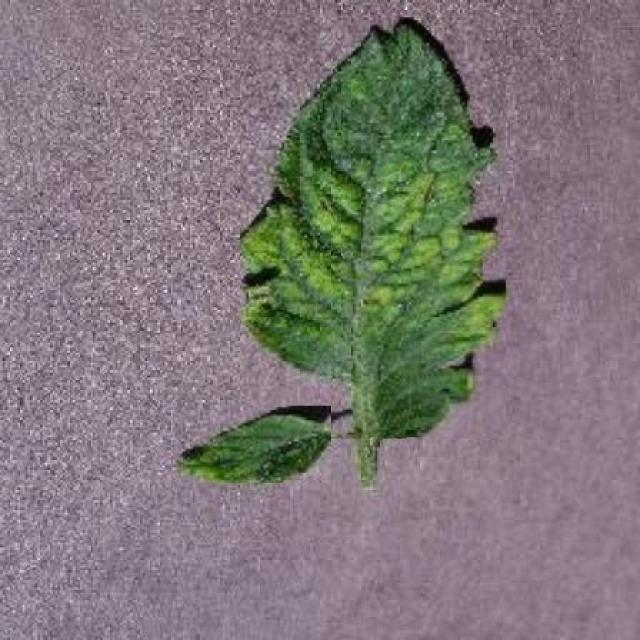Mosaic Virus: (240, 14, 506, 439), (179, 406, 330, 484)
